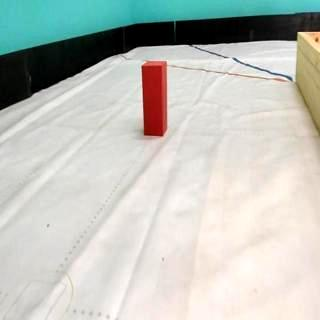redbox: (141, 60, 167, 136)
